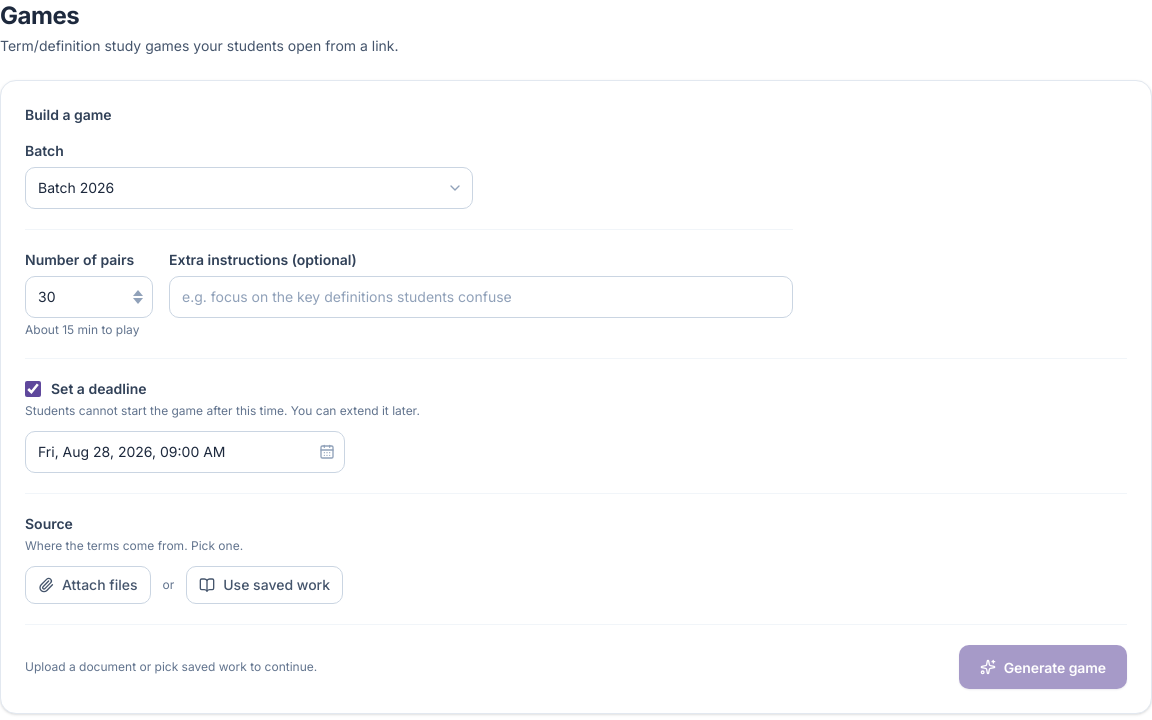
Test: Games — source picker › accepts a deadline that is still ahead
Click the button "Use saved work" at (265, 585), box [186, 566, 343, 604]
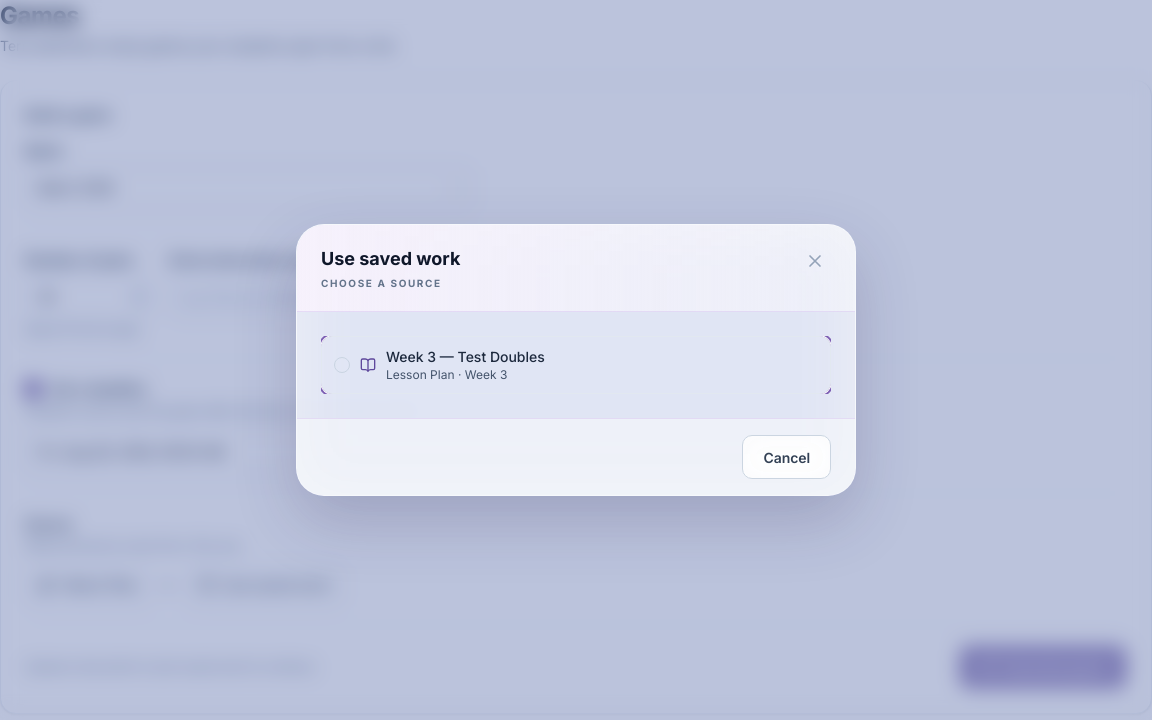
Now the text "Week 3 — Test Doubles" is shown, box [386, 348, 545, 365]
Click the radio button labelled "Week 3 — Test Doubles Lesson Plan · Week 3" at (465, 356), box [321, 336, 831, 394]
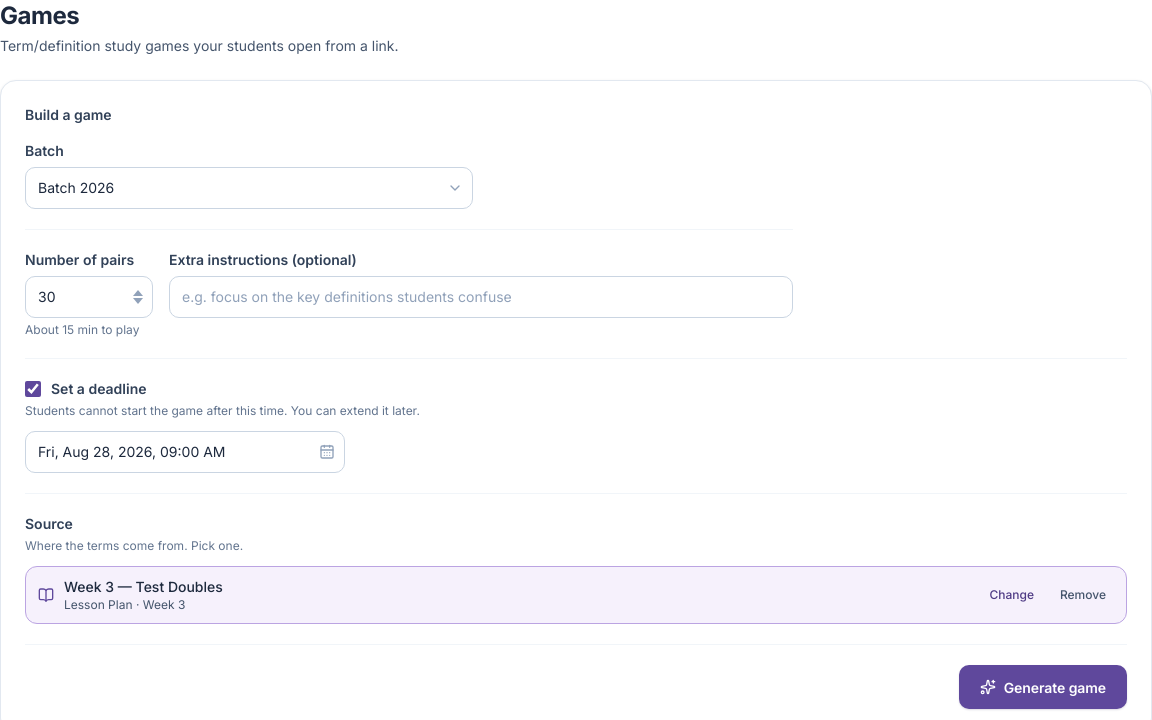
Now the button "Generate game" is enabled, box [959, 665, 1127, 709]
